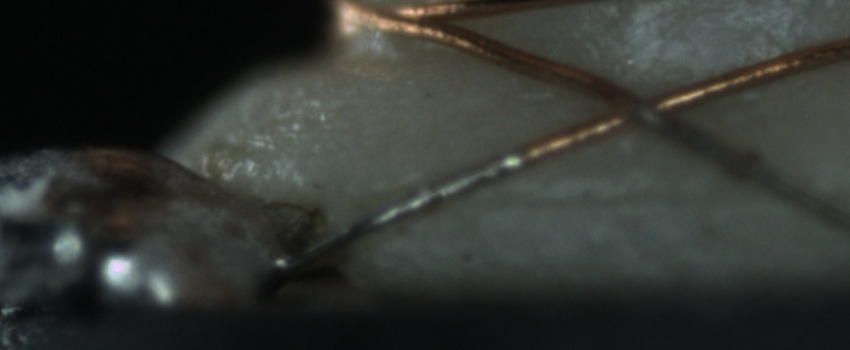CL: (591, 78, 692, 139)
DL: (444, 166, 780, 230)
TS: (276, 153, 522, 271)
TTCW: (279, 126, 586, 273)
